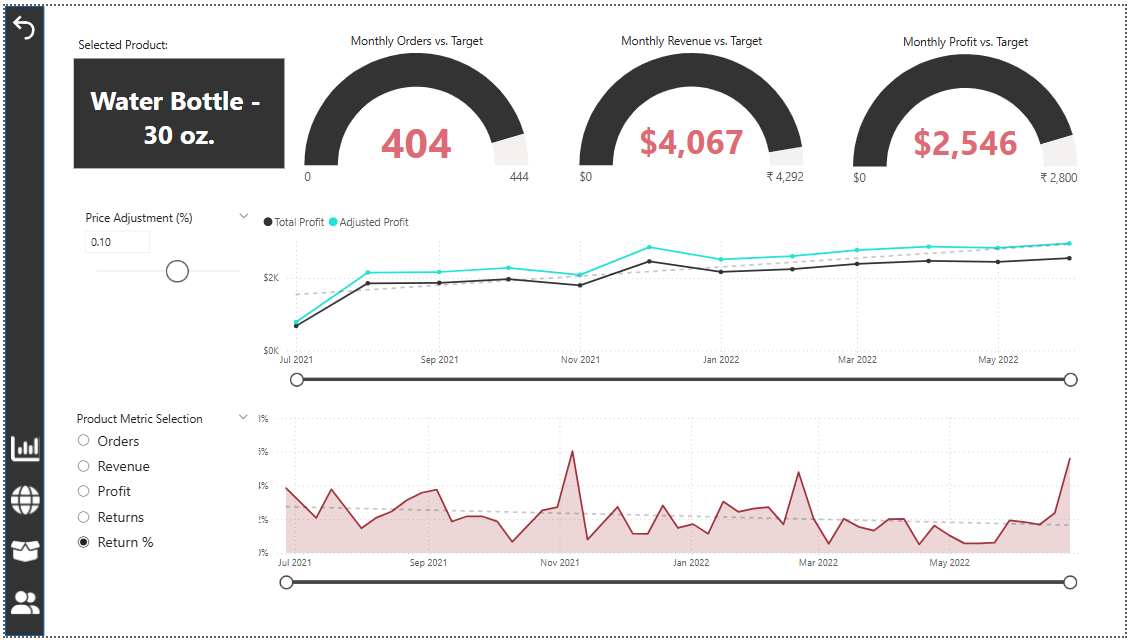

The page's visual inventory and layout, read from the dashboard file:
{"tool":"powerbi","page":{"name":"Product Detail","canvas":[1280,720],"ordinal":2},"visuals":[{"type":"shape","box":[0,0,45,720],"z":0},{"type":"gauge","title":"Monthly Orders vs. Target","fields":{"Y":["Mesures Table.Total Orders"],"MaxValue":["Mesures Table.Order Target"]},"box":[337.5,29.6,266.5,185.9],"z":1000},{"type":"actionButton","box":[2.4,544.1,43.1,40.7],"z":1000,"group":"g1"},{"type":"gauge","title":"Monthly Revenue vs. Target","fields":{"Y":["Mesures Table.Total Revenue"],"MaxValue":["Mesures Table.Revenue Target"]},"box":[650.8,29.6,266.5,185.9],"z":2000},{"type":"actionButton","box":[2.4,602.9,43.1,40.7],"z":2000,"group":"g1"},{"type":"gauge","title":"Monthly Profit vs. Target","fields":{"Y":["Mesures Table.Total Profit"],"MaxValue":["Mesures Table.Profit Target"]},"box":[964,30.8,266.5,185.9],"z":3000},{"type":"actionButton","box":[2.4,661.6,43.1,40.7],"z":3000,"group":"g1"},{"type":"actionButton","box":[2.4,485.4,43.1,40.7],"z":4000,"group":"g1"},{"type":"lineChart","title":"Profit Trending","fields":{"Category":["Calendar Lookup.Date Hierarchy.Start of Year","Calendar Lookup.Date Hierarchy.Start of Month","Calendar Lookup.Date Hierarchy.Start of Week","Calendar Lookup.Date Hierarchy.Date"],"Y":["Mesures Table.Total Profit","Mesures Table.Adjusted Profit"]},"box":[290,226.5,956.4,210.9],"z":4000},{"type":"areaChart","title":"Returns Trending","fields":{"Y":["Mesures Table.Return Rate"],"Category":["Calendar Lookup.Date Hierarchy.Start of Year","Calendar Lookup.Date Hierarchy.Start of Month","Calendar Lookup.Date Hierarchy.Start of Week","Calendar Lookup.Date Hierarchy.Date"]},"box":[281.6,456.6,964.8,212.1],"z":5000},{"type":"card","fields":{"Values":["Min(Product Lookup.ProductName)"]},"box":[77.9,59.9,240.9,125.8],"z":6000},{"type":"textbox","box":[77.9,30,232.5,30],"z":7000},{"type":"group","id":"g1","title":"Navigation Buttons","box":[2.4,485.4,43.1,216.9],"z":8000},{"type":"actionButton","box":[2.5,5,40,37.5],"z":9000},{"type":"slicer","fields":{"Values":["Price Adjustment (%).Price Adjustment (%)"]},"box":[77.9,226.5,212.1,155.8],"z":10000},{"type":"slicer","fields":{"Values":["Product Metric Selection.Product Metric Selection"]},"box":[68.3,457.8,221.7,185.8],"z":11000}]}

Visuals, with their boxes on the page's 1280x720 design canvas (x1, y1, x2, y2). These are canvas units, not pixel positions in the 1132x640 screenshot, which may show the page scaled, cropped or inside an application window:
shape: l=0, t=0, r=45, b=720
"Monthly Orders vs. Target" gauge: l=338, t=30, r=604, b=216
actionButton: l=2, t=544, r=46, b=585
"Monthly Revenue vs. Target" gauge: l=651, t=30, r=917, b=216
actionButton: l=2, t=603, r=46, b=644
"Monthly Profit vs. Target" gauge: l=964, t=31, r=1230, b=217
actionButton: l=2, t=662, r=46, b=702
actionButton: l=2, t=485, r=46, b=526
"Profit Trending" lineChart: l=290, t=226, r=1246, b=437
"Returns Trending" areaChart: l=282, t=457, r=1246, b=669
card - Min(Product Lookup.ProductName): l=78, t=60, r=319, b=186
textbox: l=78, t=30, r=310, b=60
"Navigation Buttons" group: l=2, t=485, r=46, b=702
actionButton: l=2, t=5, r=42, b=42
slicer - Price Adjustment (%).Price Adjustment (%): l=78, t=226, r=290, b=382
slicer - Product Metric Selection.Product Metric Selection: l=68, t=458, r=290, b=644
